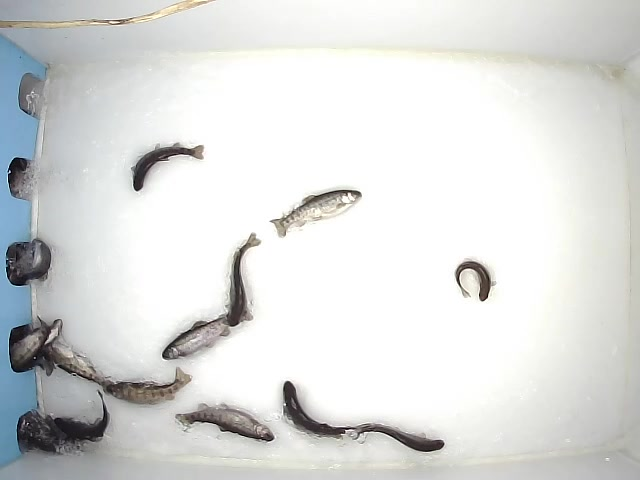fish: (38, 327, 117, 394), (268, 186, 362, 240), (281, 380, 359, 442), (173, 401, 276, 443), (130, 139, 205, 193), (223, 231, 261, 327), (102, 365, 193, 405), (53, 387, 111, 444), (160, 308, 240, 349), (349, 420, 444, 452), (453, 258, 496, 303)
